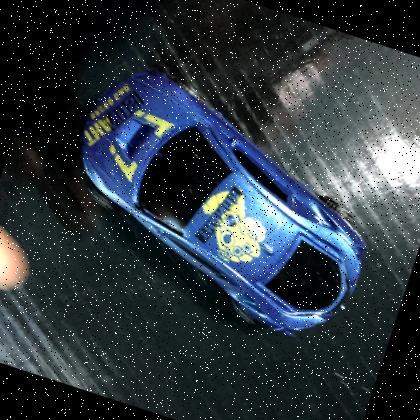Car: (34, 39, 412, 360)
